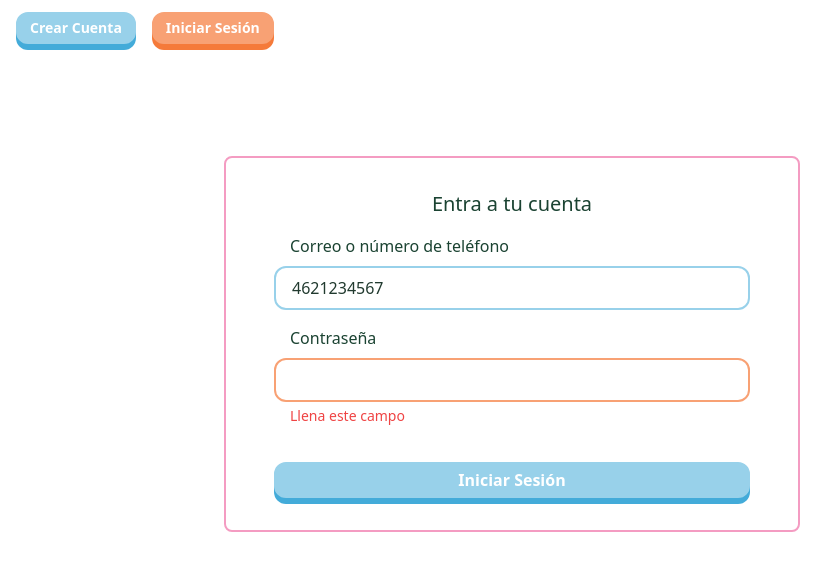
Scenario: Validación de campos › Regex de identifier › Teléfono con guiones no es válido
Replace the text in the field with id "identifier" with "46-2123-4567" at (512, 288), box [274,266,750,310]
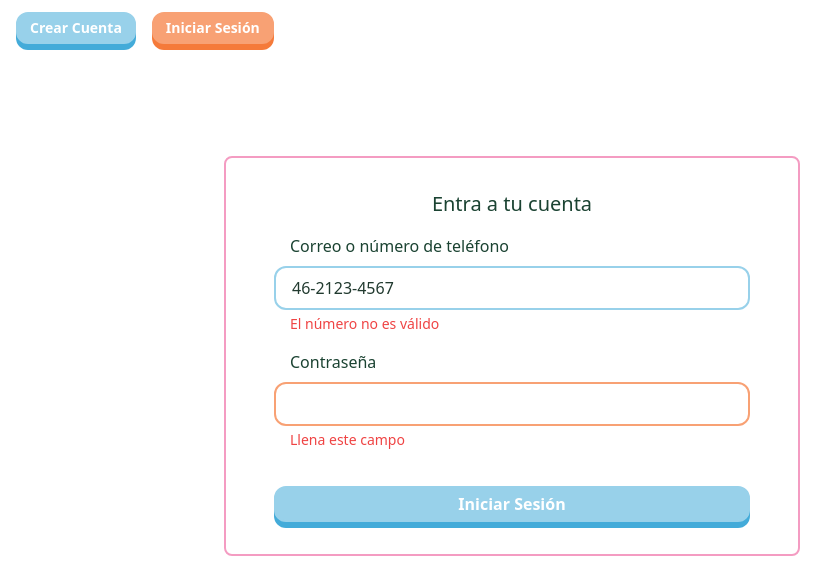
Expected: the text "El número no es válido" is shown, [290,314,439,333]
